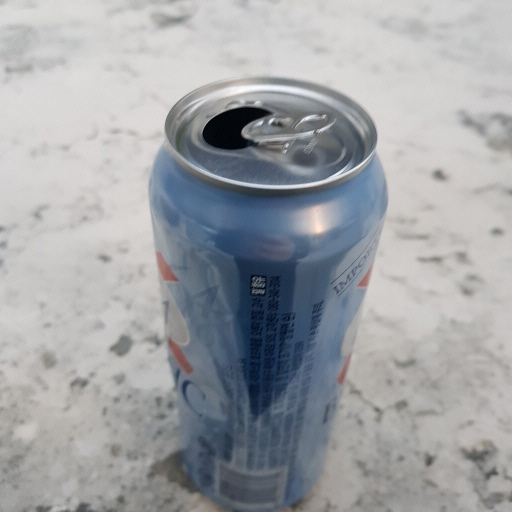Metal_0: (145, 75, 390, 512)
